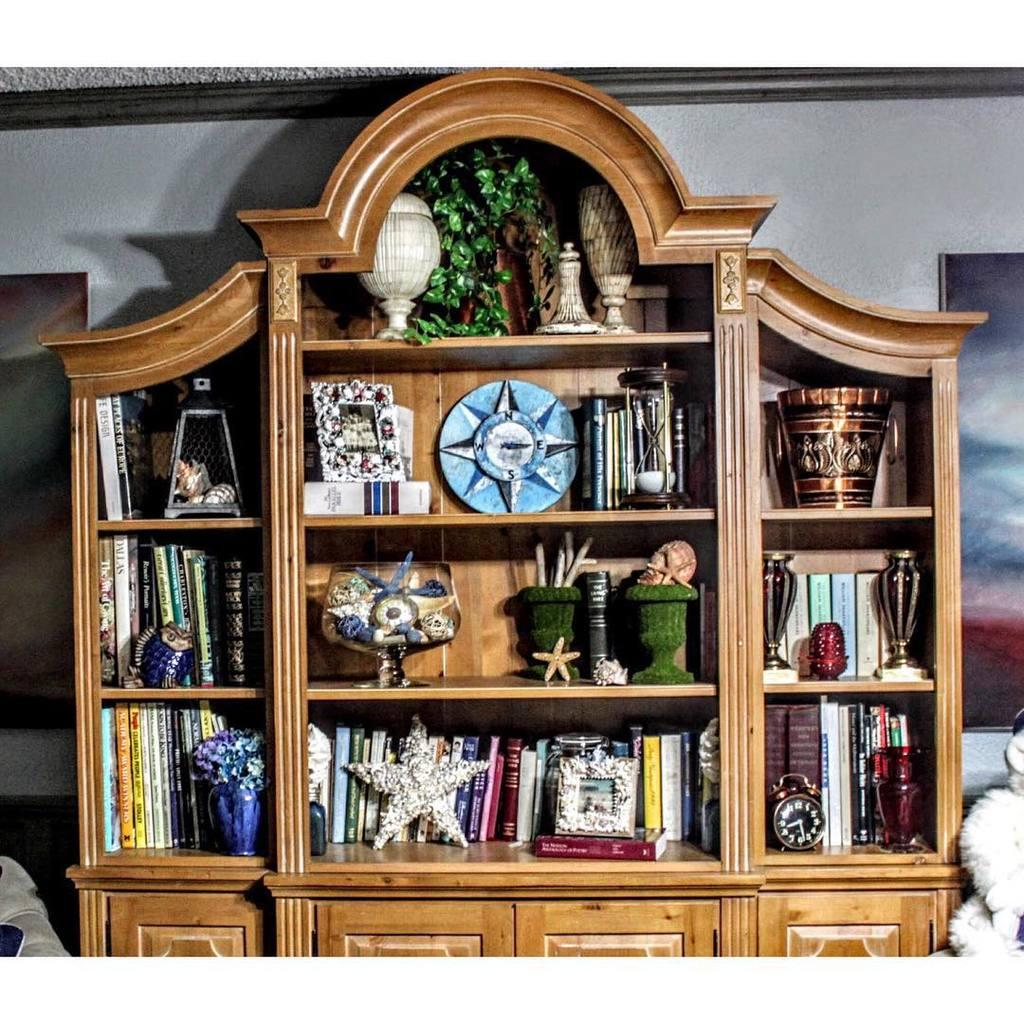cabinet_door: (348, 930, 482, 964), (782, 924, 902, 958), (544, 934, 686, 962), (142, 922, 242, 960)
